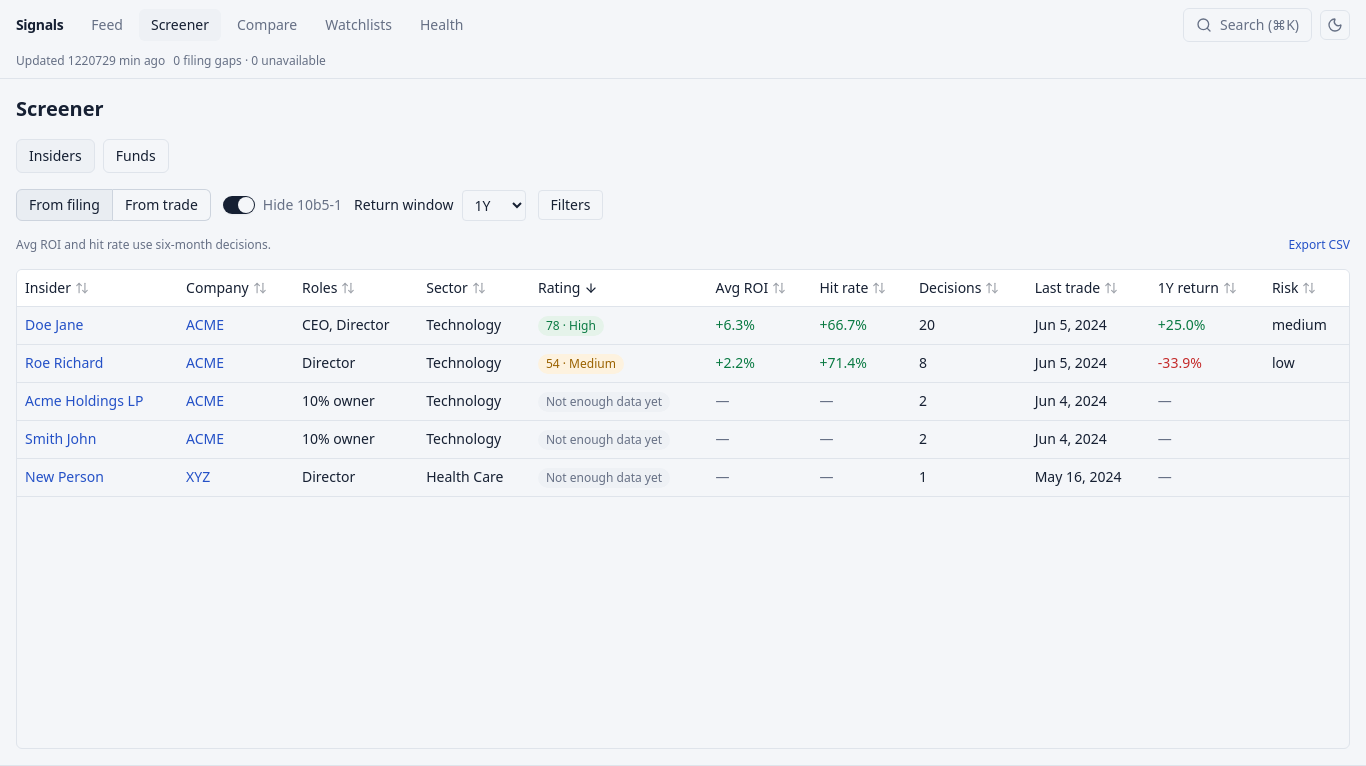
Scenario: enter navigates to company
Step 1. Type keys "{Control>}k{/Control}"
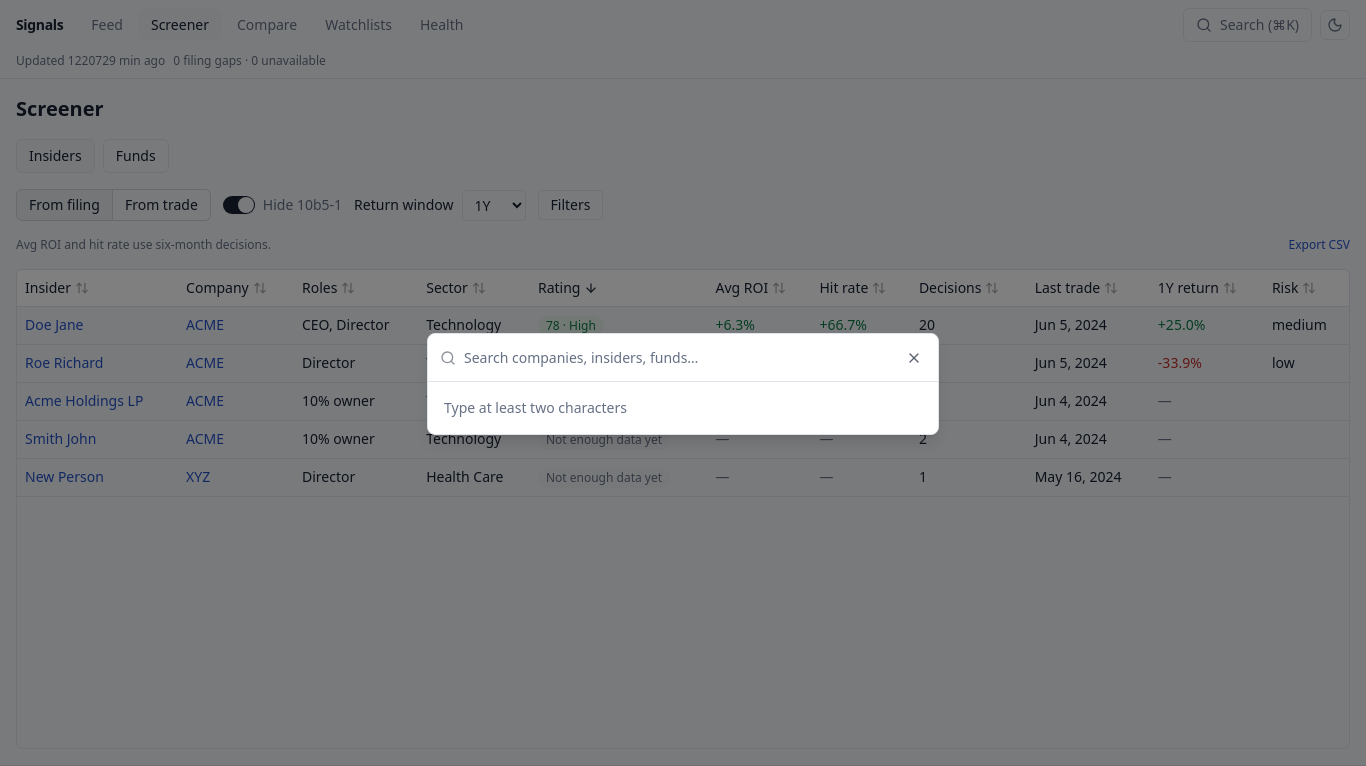
Step 2. Type "ac" into the dropdown named "Search profiles" → (695, 358), box [464,334,926,382]
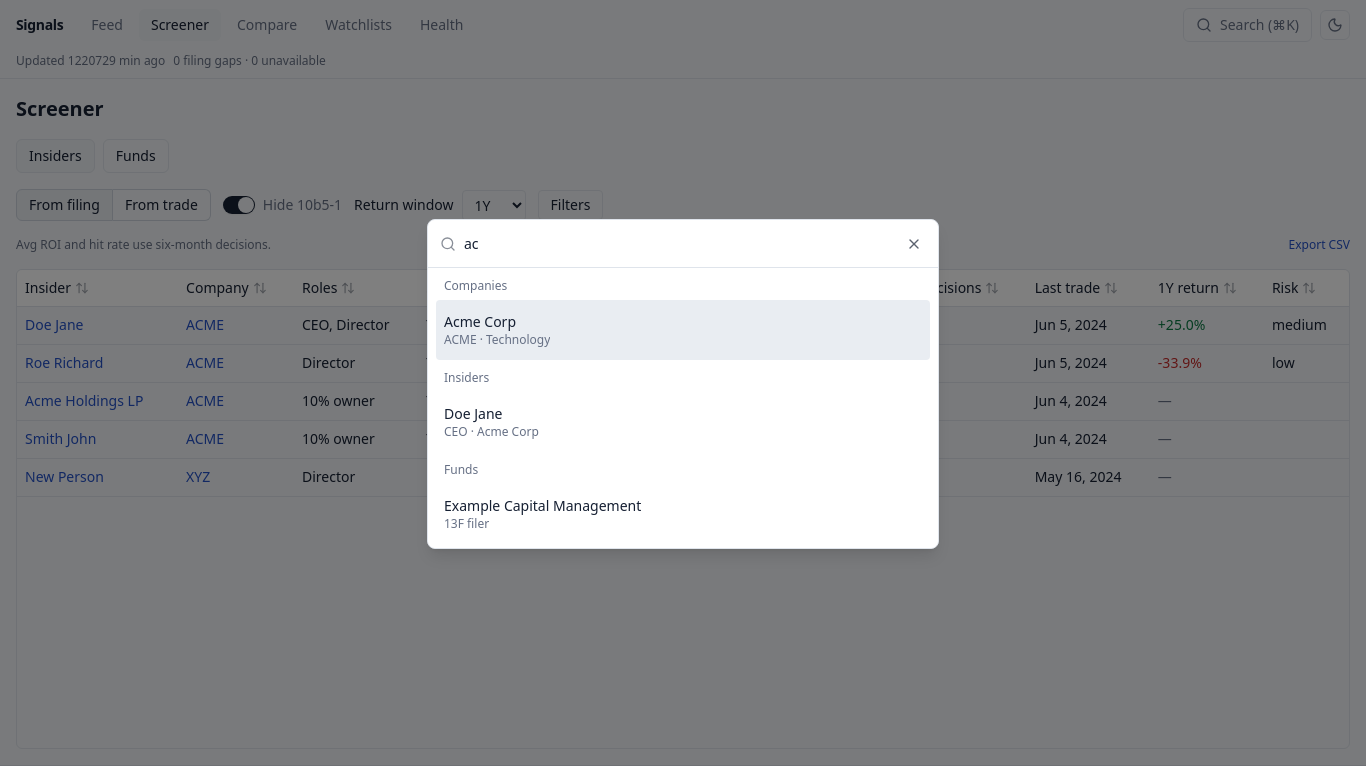
Now the option "Acme Corp ACME · Technology" is shown, box [436,300,930,360]
Step 3. Press Enter
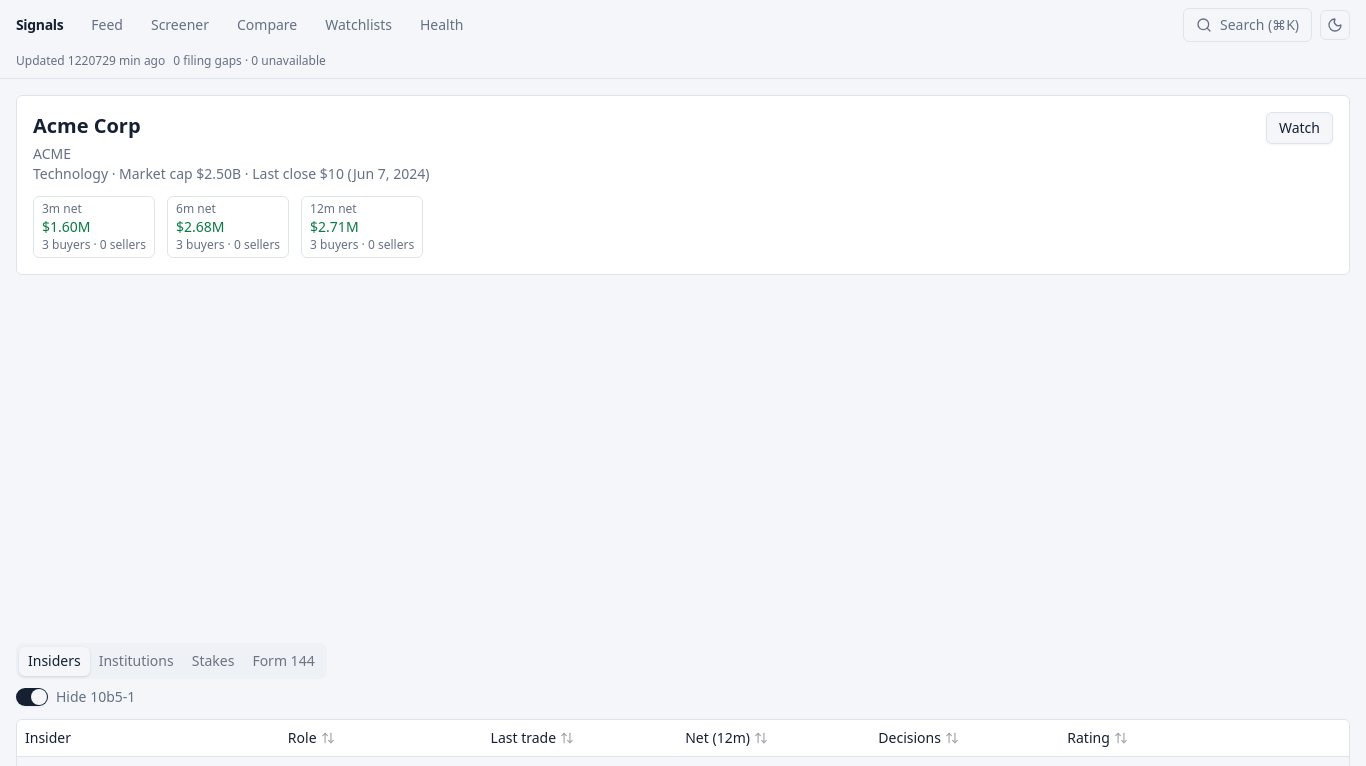
Now the heading "Acme Corp" is shown, box [33,112,141,139]
Now the dialog is gone
